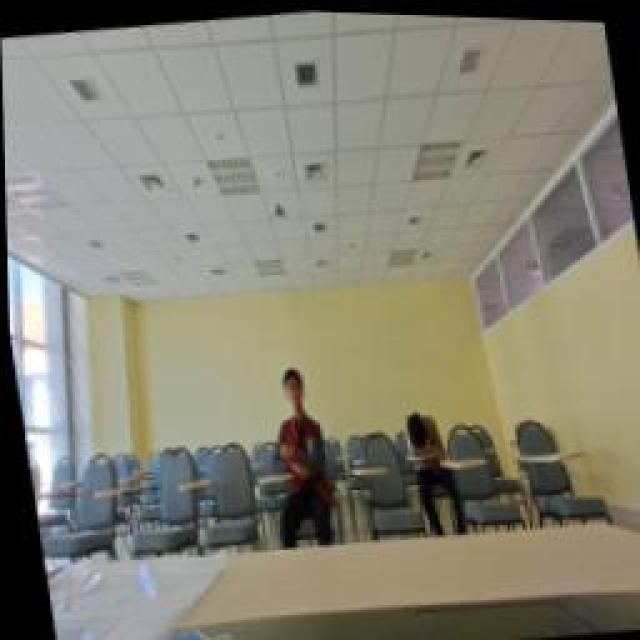sleep: (400, 403, 442, 455)
study: (253, 358, 325, 472)
